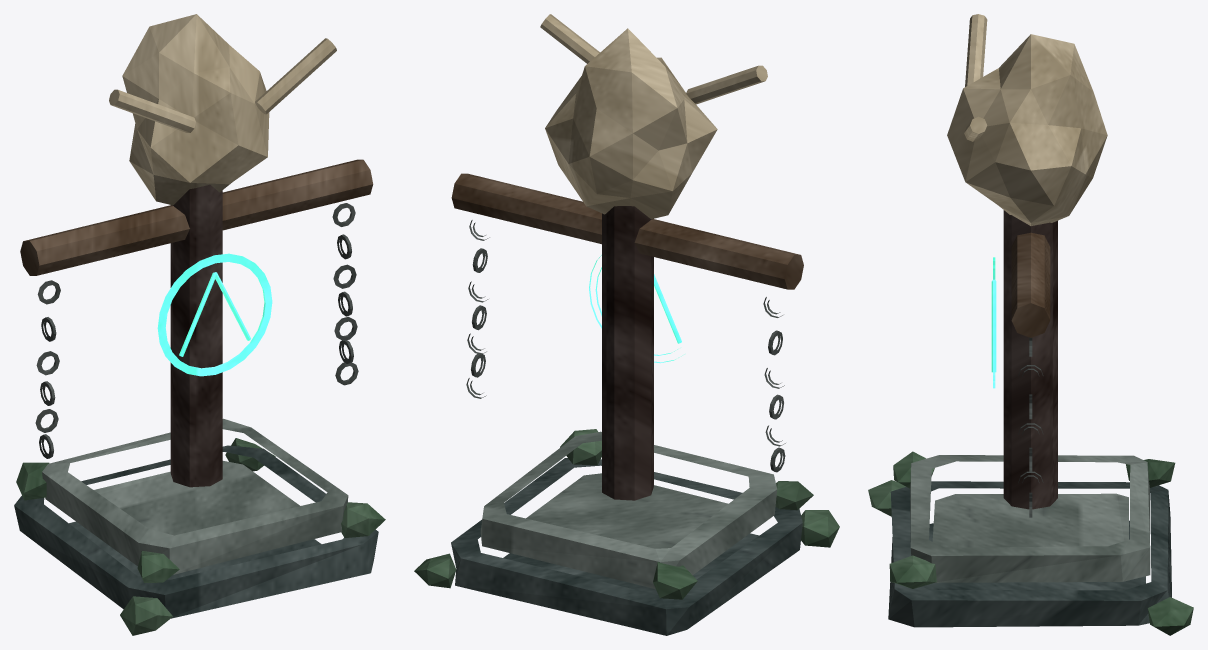
The model's file is 0507_effigy_07.glb.
3 views of the same model, side by side, from view 1: azimuth 30°, elevation 25°; view 2: azimuth 150°, elevation 25°; view 3: azimuth 270°, elevation 25° (orthographic).
Visible parts, largest first — view 1: bone, stone, stone_dark, wood_dark, wood, moss, glow, iron; view 2: bone, stone, stone_dark, wood_dark, wood, moss, iron, glow; view 3: bone, stone, stone_dark, wood_dark, moss, wood, glow, iron.
Part boxes in pixels (x1,y1,x2,y2): bone: (109, 14, 336, 205); stone: (42, 418, 348, 574); stone_dark: (14, 445, 378, 618); wood_dark: (170, 184, 222, 487); wood: (20, 159, 373, 275); moss: (16, 438, 385, 635); glow: (157, 253, 272, 376); iron: (35, 203, 358, 458); bone: (540, 14, 767, 219); stone: (480, 431, 777, 589); stone_dark: (451, 458, 802, 635); wood_dark: (602, 206, 653, 500); wood: (451, 173, 803, 289); moss: (414, 429, 839, 599); iron: (466, 220, 785, 472); glow: (589, 255, 684, 363); bone: (947, 14, 1107, 225); stone: (910, 455, 1150, 582); stone_dark: (888, 481, 1171, 627); wood_dark: (1003, 210, 1057, 509); moss: (868, 451, 1193, 635); wood: (1011, 232, 1050, 337); glow: (991, 257, 996, 388); iron: (1018, 337, 1043, 517).
Bounding box in the file's own units: 2 × 3.08 × 1.68.
Materials: 8 (8 with a texture image).
